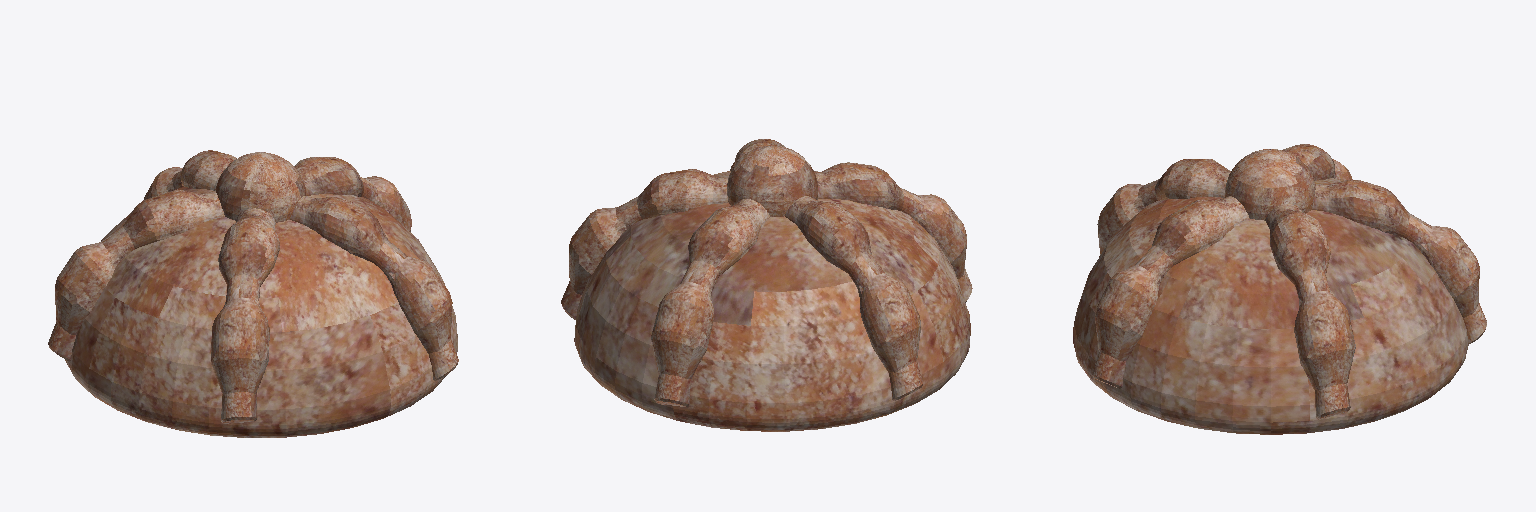
3 renders of one model, left to right at view 1: azimuth 30°, elevation 25°; view 2: azimuth 150°, elevation 25°; view 3: azimuth 270°, elevation 25°, orthographic.
Bounding box in the file's own units: 2.05 × 1.13 × 2.06.
1 materials, 1 textured.